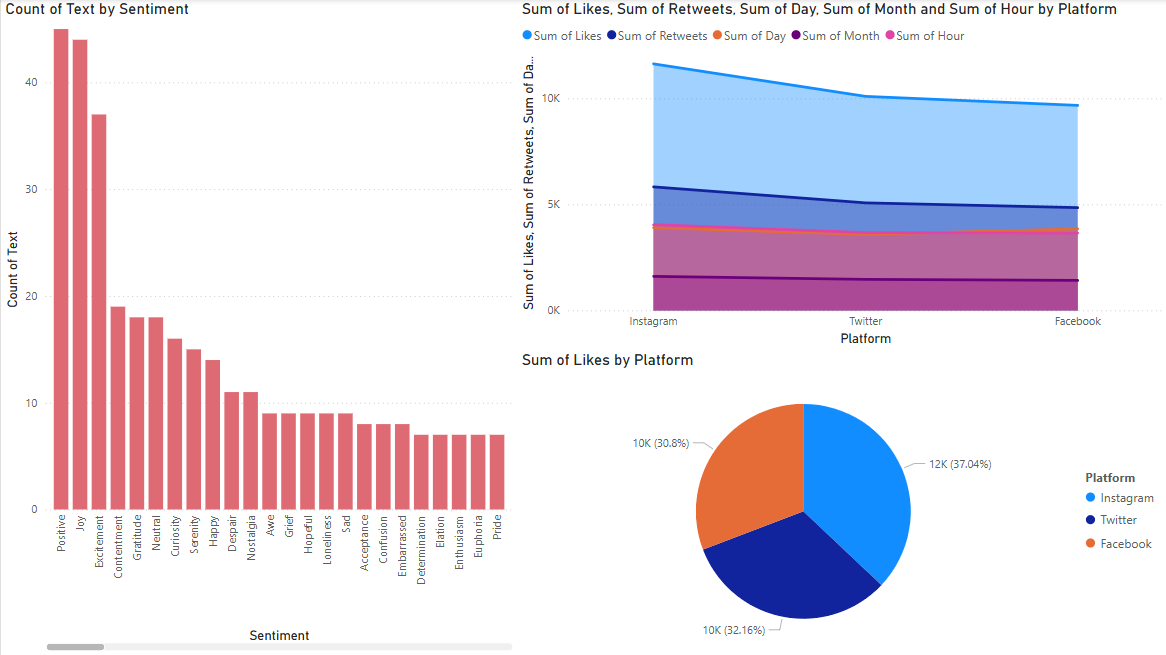

Layout of this report page (visuals, bound fields, positions):
{"tool":"powerbi","page":{"name":"Page 1","canvas":[1280,720],"ordinal":0},"visuals":[{"type":"columnChart","fields":{"Category":["sentimentdataset.Sentiment"],"Y":["CountNonNull(sentimentdataset.Text)"]},"box":[0,0,566.7,720.4],"z":0},{"type":"pieChart","fields":{"Category":["sentimentdataset.Platform"],"Y":["Sum(sentimentdataset.Likes)"]},"box":[566.7,385.6,713.6,334.8],"z":1},{"type":"areaChart","fields":{"Category":["sentimentdataset.Platform"],"Y":["Sum(sentimentdataset.Likes)","Sum(sentimentdataset.Retweets)","Sum(sentimentdataset.Day)","Sum(sentimentdataset.Month)","Sum(sentimentdataset.Hour)"]},"box":[566.7,0,713.6,385.6],"z":2}]}

Visuals, with their boxes in screenshot pixels (x1, y1, x2, y2), scaled from the page's 1280x720 canvas onto the 1166x655 screenshot:
columnChart - sentimentdataset.Sentiment x CountNonNull(sentimentdataset.Text): crop(0, 0, 516, 654)
pieChart - sentimentdataset.Platform x Sum(sentimentdataset.Likes): crop(516, 351, 1165, 654)
areaChart - sentimentdataset.Platform x Sum(sentimentdataset.Likes): crop(516, 0, 1165, 351)
